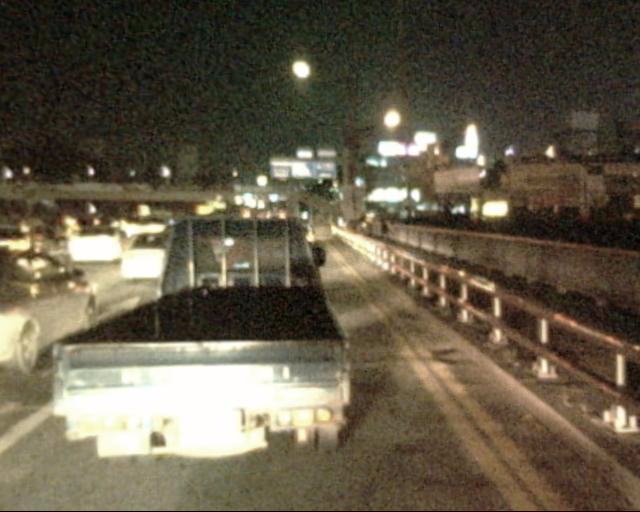person: (378, 211, 407, 255)
